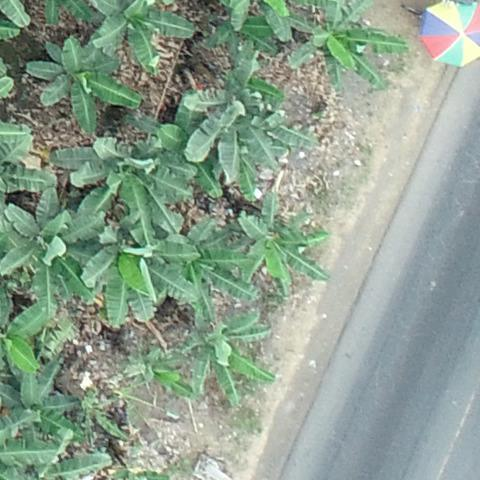Banana-plant: (179, 58, 296, 186), (73, 133, 198, 245), (1, 192, 117, 311), (220, 188, 332, 297), (22, 41, 144, 135), (180, 288, 271, 412), (283, 0, 395, 90), (157, 221, 251, 317), (86, 0, 207, 73), (0, 360, 87, 435), (120, 344, 197, 416)
